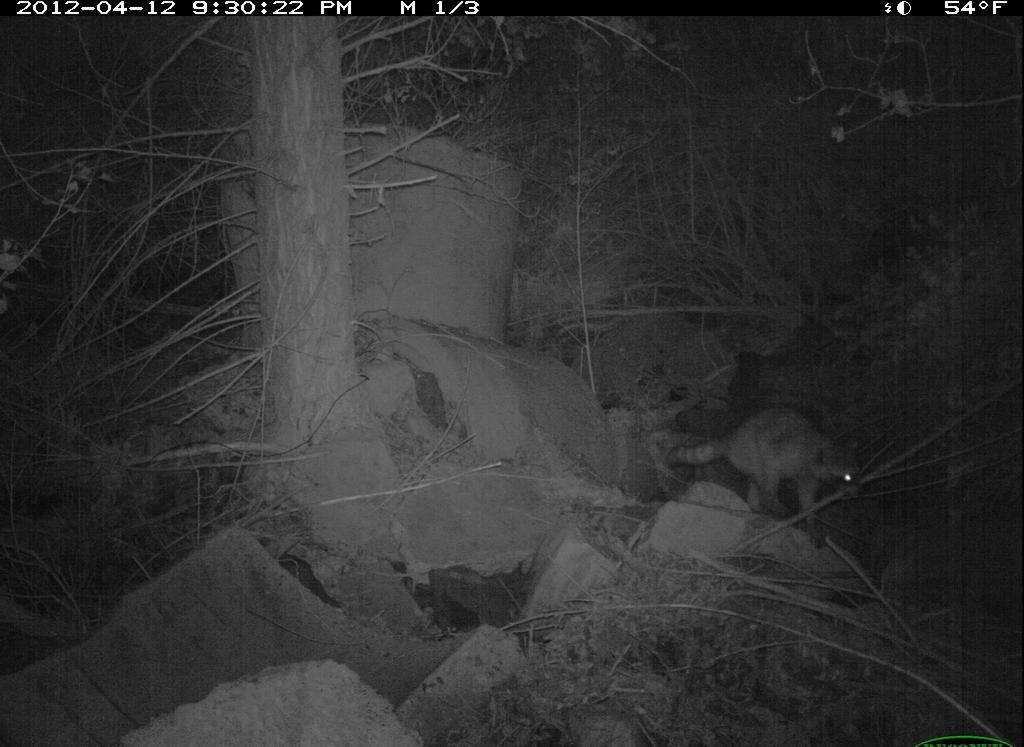raccoon: (664, 402, 875, 556)
